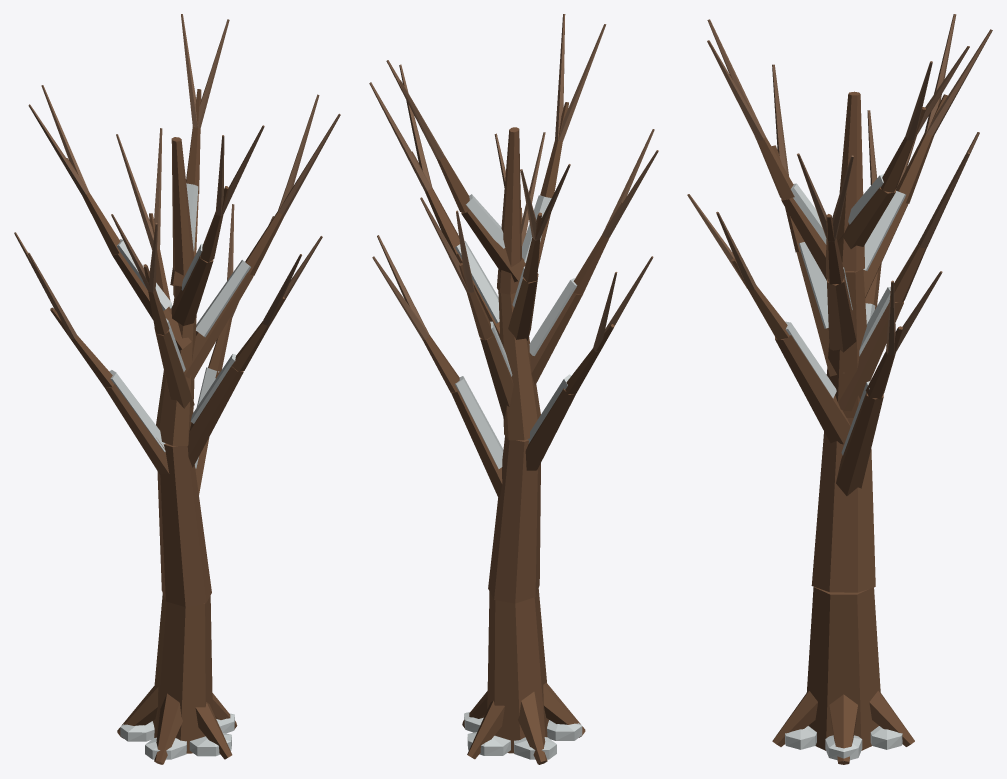
File: tree_default_winter.glb
The picture shows the model from 3 angles, left to right: view 1: azimuth 30°, elevation 25°; view 2: azimuth 150°, elevation 25°; view 3: azimuth 270°, elevation 25°; orthographic projection. The views are drawn at different scales.
Visible parts, largest first — view 1: branches, snow; view 2: branches, snow; view 3: branches, snow.
Part boxes in pixels (bbox=[...]): branches: bbox=[14, 14, 340, 764]; snow: bbox=[109, 183, 250, 759]; branches: bbox=[369, 14, 658, 764]; snow: bbox=[455, 194, 582, 759]; branches: bbox=[687, 14, 992, 764]; snow: bbox=[785, 174, 905, 761].
Bounding box in the file's own units: 0.755 × 1.71 × 0.6538.
